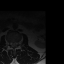CCS_normal: (13, 40, 15, 48)
LFS_normal: (16, 39, 18, 46)
LLS_normal: (15, 39, 16, 47)
RFS_normal: (8, 40, 10, 46)
RLS_normal: (10, 39, 12, 47)
